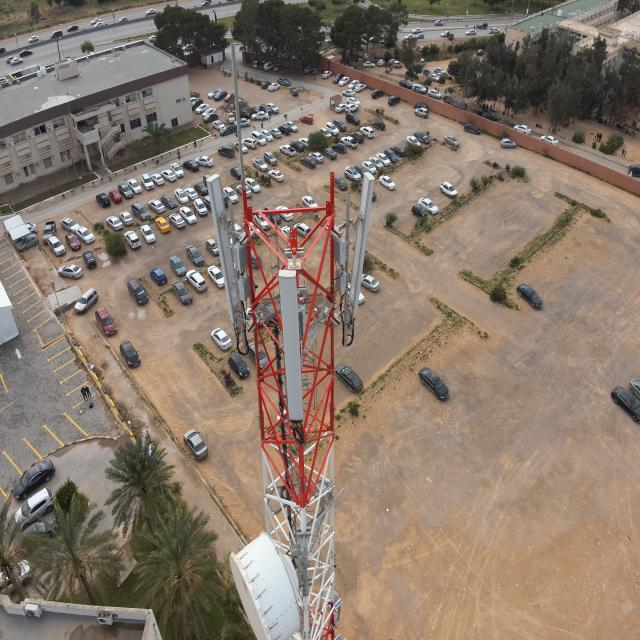Ground Based: (197, 45, 378, 640)
